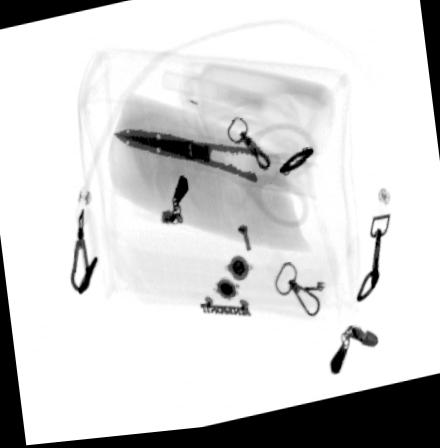Scissors: (112, 129, 318, 234)
